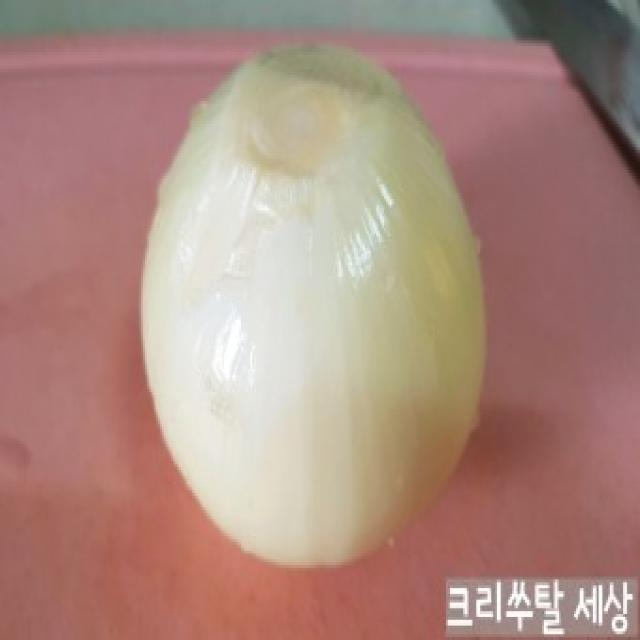Onion: (138, 39, 485, 571)
